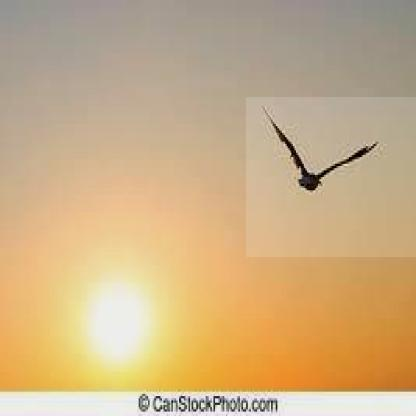bird: (246, 97, 416, 257)
